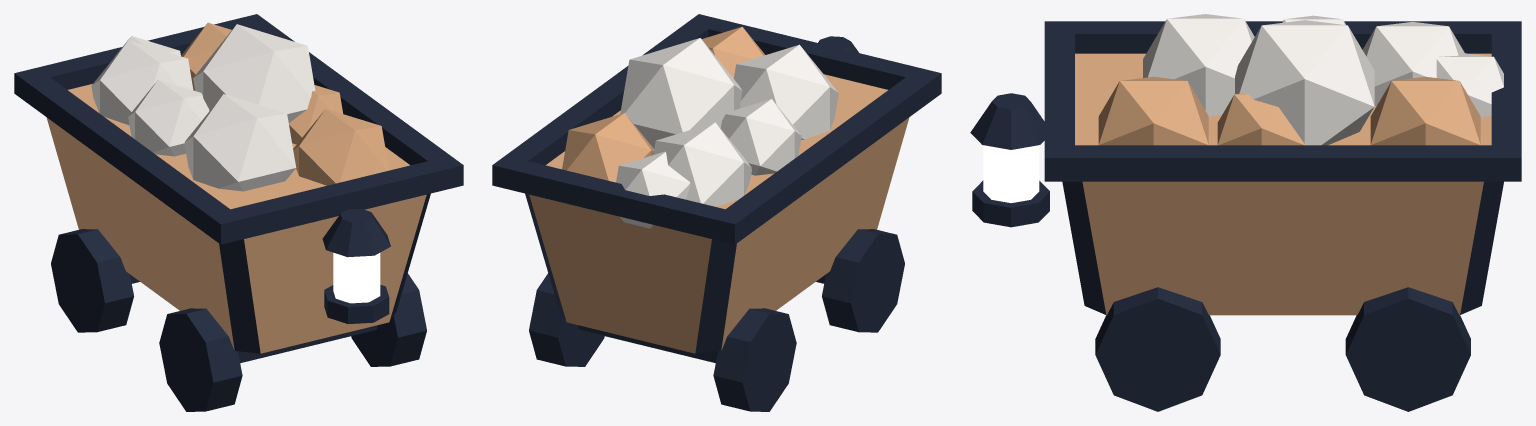
The model's file is cart.glb.
The picture shows the model from 3 angles, left to right: view 1: azimuth 30°, elevation 25°; view 2: azimuth 150°, elevation 25°; view 3: azimuth 270°, elevation 25°; orthographic projection. The views are drawn at different scales.
Parts seen in each view (by area): view 1: Irons, Tub, Gems, LampGlass; view 2: Irons, Tub, Gems; view 3: Irons, Tub, Gems, LampGlass.
Part boxes in pixels (left/top/right/bottom): Irons: left=14, top=14, right=463, bottom=411; Tub: left=46, top=84, right=430, bottom=353; Gems: left=91, top=22, right=388, bottom=191; LampGlass: left=333, top=252, right=380, bottom=303; Irons: left=492, top=14, right=941, bottom=411; Tub: left=525, top=74, right=909, bottom=353; Gems: left=562, top=26, right=838, bottom=228; Irons: left=970, top=21, right=1521, bottom=411; Tub: left=1062, top=53, right=1503, bottom=315; Gems: left=1098, top=14, right=1503, bottom=145; LampGlass: left=983, top=145, right=1039, bottom=203.
Size of the model in its own units: 0.75 by 0.8716 by 1.28.
